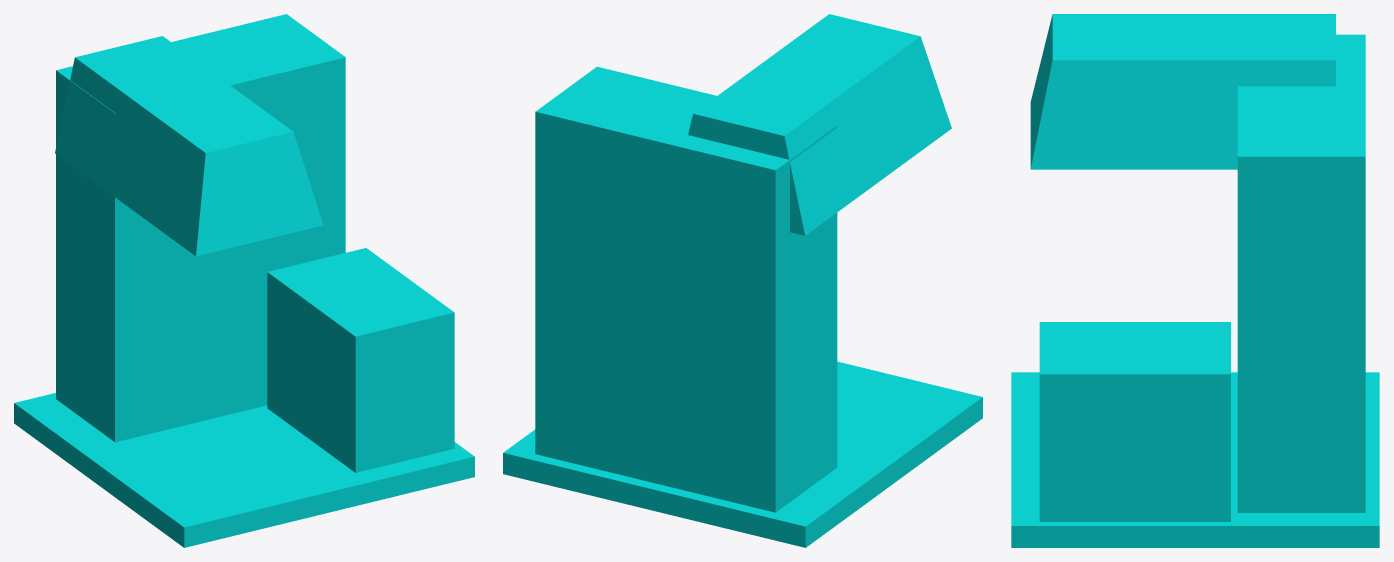
File: SM_Prop_Shower_01_Collision.fbx
The picture shows the model from 3 angles, left to right: view 1: azimuth 30°, elevation 25°; view 2: azimuth 150°, elevation 25°; view 3: azimuth 270°, elevation 25°; orthographic projection. The views are drawn at different scales.
Visible parts, largest first — view 1: SM_Prop_Shower_01_Collision; view 2: SM_Prop_Shower_01_Collision; view 3: SM_Prop_Shower_01_Collision.
Boxes of the visible parts, x1,y1,x2,y2 form: SM_Prop_Shower_01_Collision: (14,14,474,547); SM_Prop_Shower_01_Collision: (503,14,982,547); SM_Prop_Shower_01_Collision: (1011,14,1379,547).
Size of the model in its own units: 256 by 312 by 259.
